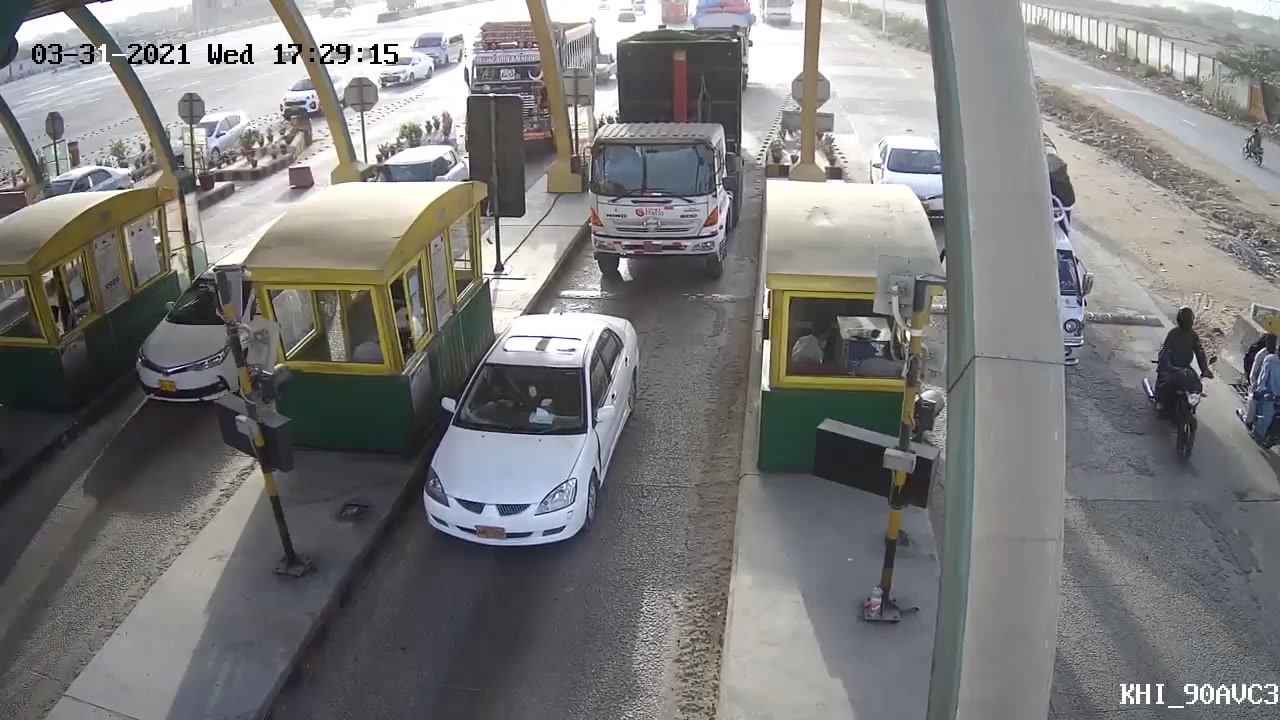F1: (409, 312, 647, 568)
F6: (585, 26, 751, 278)
